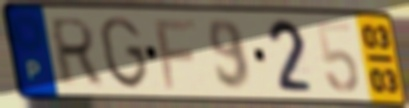2: (264, 16, 320, 97)
5: (312, 19, 361, 95)
9: (206, 17, 253, 94)
F: (152, 17, 200, 92)
G: (97, 14, 152, 92)
R: (49, 15, 104, 88)
